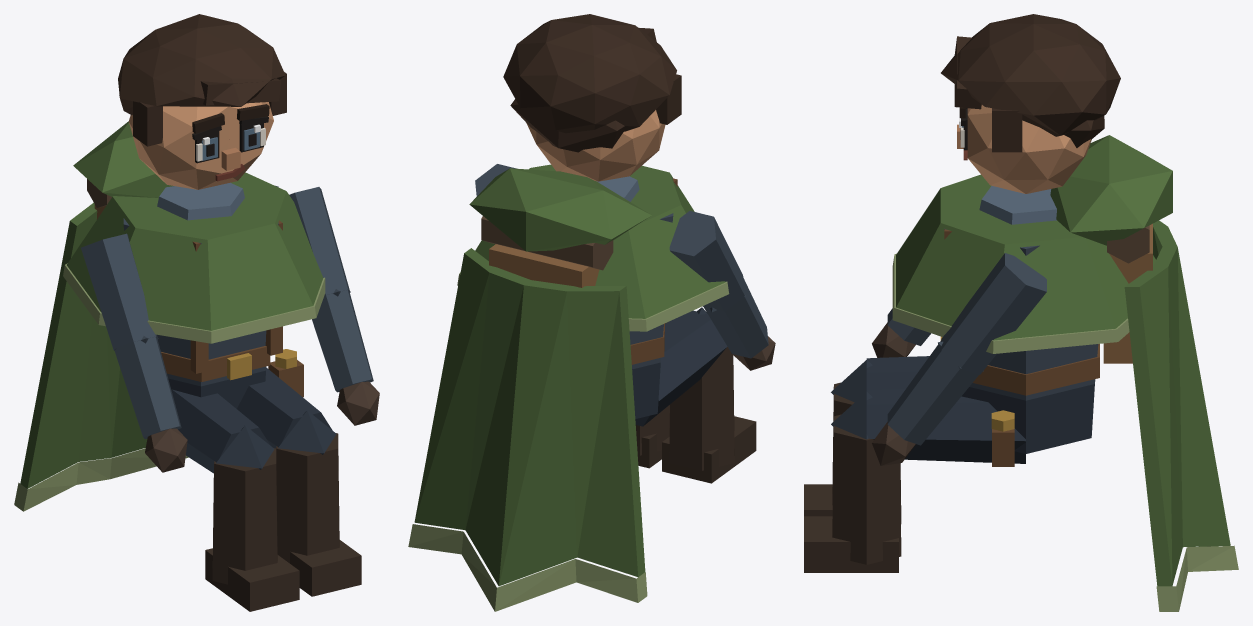
File: cam-sit-hood-down.glb
The picture shows the model from 3 angles, left to right: view 1: azimuth 30°, elevation 25°; view 2: azimuth 150°, elevation 25°; view 3: azimuth 270°, elevation 25°; orthographic projection. The views are drawn at different scales.
Visible parts, largest first — view 1: cloak, head, knee_R, knee_L, torso, elbow_R, elbow_L, arm_R, leg_R, hood_down, leg_L, arm_L (+3 smaller); view 2: cloak, head, hood_down, knee_R, satchel, leg_R, arm_R, elbow_R, torso, knee_L, hips; view 3: cloak, head, knee_L, hood_down, torso, arm_L, elbow_L, leg_L, hips, satchel, knee_R, leg_R (+2 smaller).
Part boxes in pixels (bbox=[...]): cloak: bbox=[14, 172, 325, 511]; head: bbox=[118, 14, 286, 189]; knee_R: bbox=[205, 425, 299, 611]; knee_L: bbox=[276, 410, 361, 596]; torso: bbox=[123, 182, 282, 386]; elbow_R: bbox=[113, 336, 187, 472]; elbow_L: bbox=[312, 289, 379, 425]; arm_R: bbox=[81, 233, 157, 348]; leg_R: bbox=[171, 389, 270, 473]; hood_down: bbox=[73, 121, 173, 197]; leg_L: bbox=[237, 367, 332, 448]; arm_L: bbox=[289, 187, 349, 295]; cloak: bbox=[408, 164, 729, 611]; head: bbox=[503, 14, 681, 181]; hood_down: bbox=[469, 168, 651, 251]; knee_R: bbox=[662, 307, 756, 483]; satchel: bbox=[481, 216, 613, 287]; leg_R: bbox=[635, 310, 727, 426]; arm_R: bbox=[669, 211, 744, 311]; elbow_R: bbox=[703, 278, 775, 370]; torso: bbox=[597, 176, 677, 369]; knee_L: bbox=[635, 322, 669, 468]; hips: bbox=[632, 362, 660, 418]; cloak: bbox=[892, 174, 1238, 611]; head: bbox=[941, 14, 1120, 193]; knee_L: bbox=[804, 392, 901, 572]; hood_down: bbox=[1050, 135, 1172, 245]; torso: bbox=[940, 186, 1099, 400]; arm_L: bbox=[941, 253, 1046, 374]; elbow_L: bbox=[872, 340, 983, 465]; leg_L: bbox=[866, 389, 1025, 463]; hips: bbox=[961, 384, 1094, 453]; satchel: bbox=[1103, 223, 1152, 363]; knee_R: bbox=[804, 360, 901, 523]; leg_R: bbox=[866, 356, 929, 390].
Bounding box in the file's own units: 0.776 × 1.59 × 1.15.
